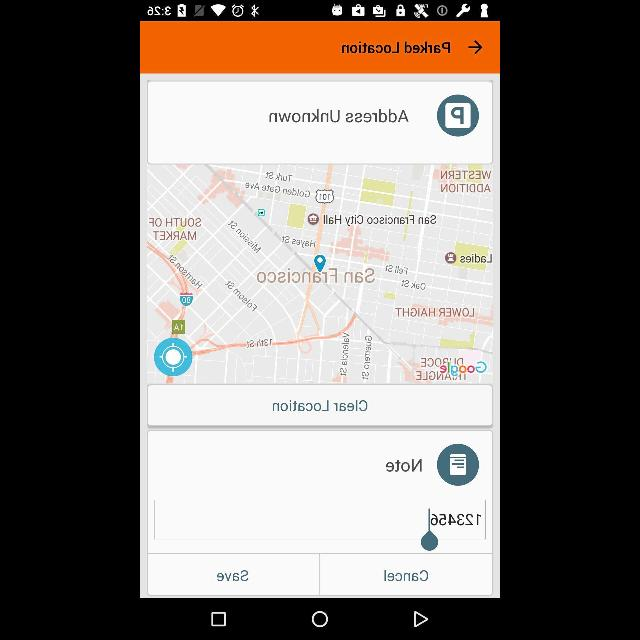icon: (437, 445, 479, 485), (438, 96, 478, 136), (312, 610, 328, 628), (414, 610, 428, 628), (468, 39, 482, 55), (212, 612, 226, 626)
input: (154, 501, 486, 539)
map: (148, 164, 492, 386)
panel: (140, 598, 500, 640)
text: (270, 110, 408, 122), (272, 398, 368, 412), (342, 42, 450, 52), (382, 568, 428, 582), (432, 514, 480, 526), (386, 458, 422, 472), (217, 570, 249, 582)
textbutton: (146, 387, 492, 428), (146, 554, 320, 596), (320, 554, 492, 596)
toolbar: (140, 22, 500, 74)
uppertaskbar: (140, 0, 500, 20)
